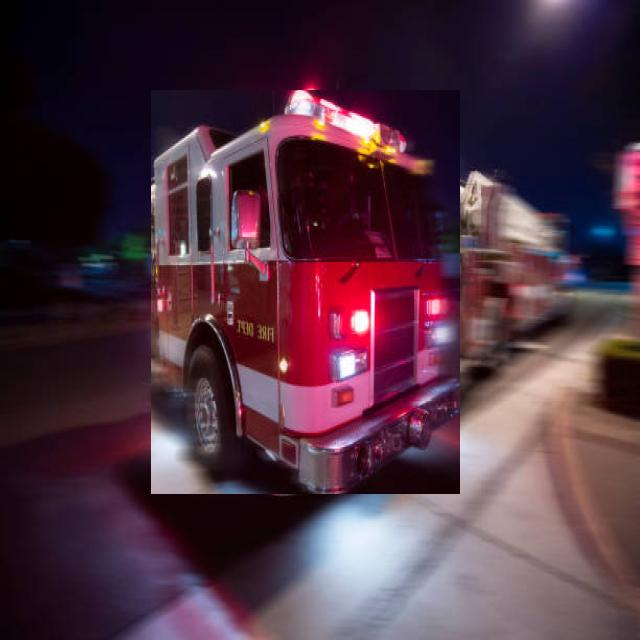emergency: (151, 90, 460, 494)
